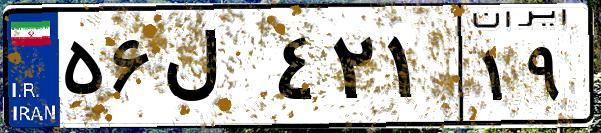1: (385, 28, 445, 110), (475, 38, 525, 113)
2: (330, 28, 385, 110)
4: (270, 28, 330, 110)
5: (57, 26, 110, 100)
6: (110, 28, 158, 98)
9: (525, 38, 570, 115)
ل: (158, 20, 270, 120)
